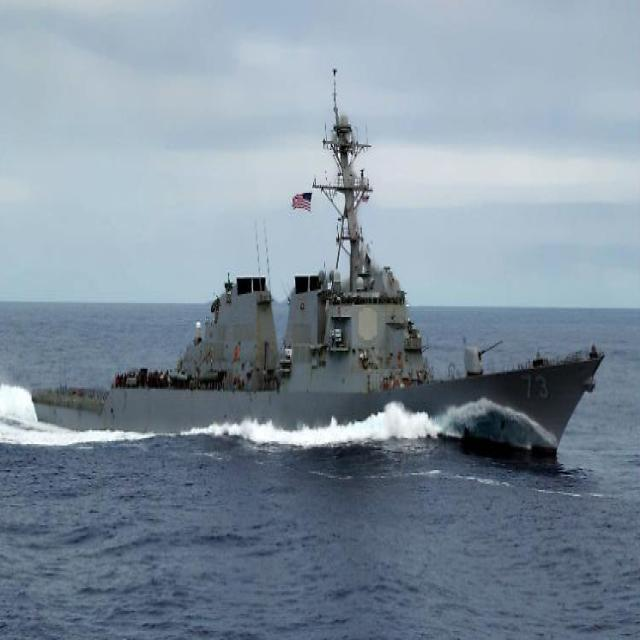navalvessels: (30, 52, 606, 480)
